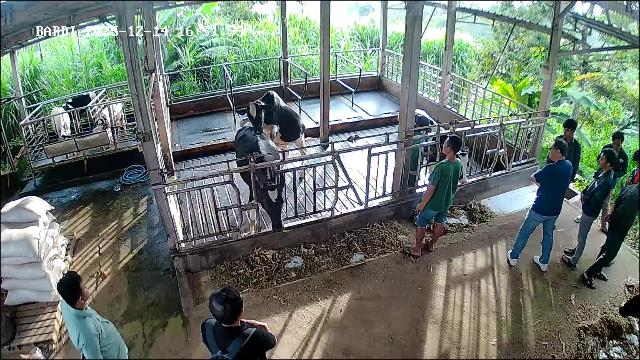mounting: (235, 89, 310, 176)
